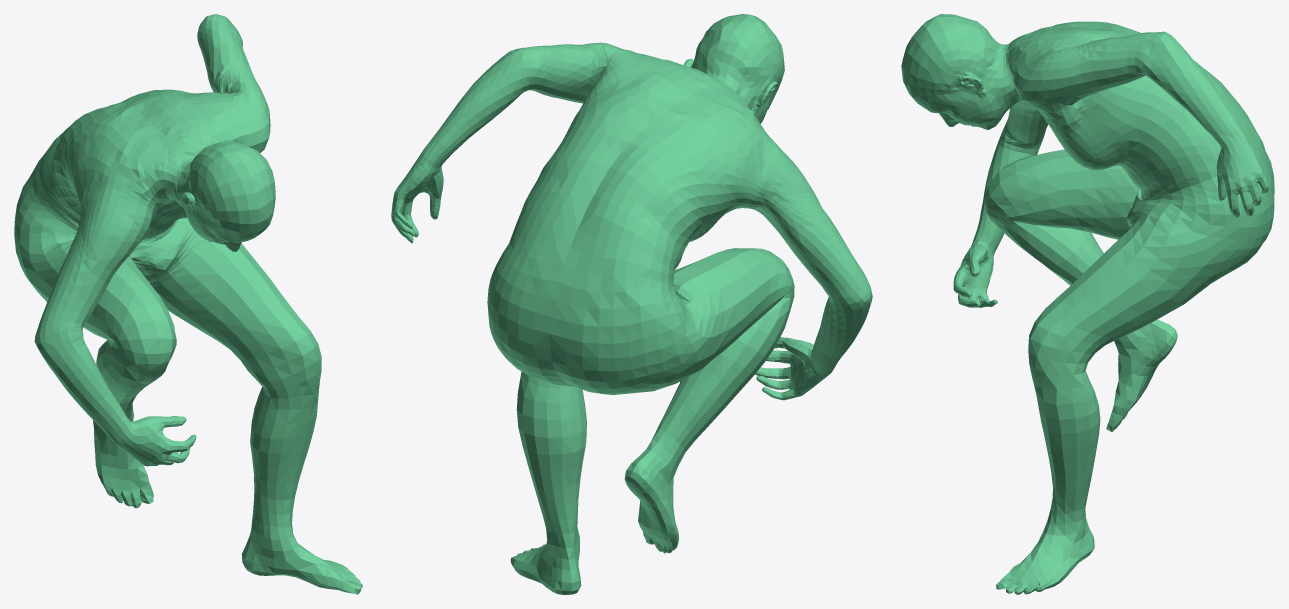
File: hwc_free_02.glb
The picture shows the model from 3 angles, left to right: view 1: azimuth 30°, elevation 25°; view 2: azimuth 150°, elevation 25°; view 3: azimuth 270°, elevation 25°; orthographic projection. The views are drawn at different scales.
Parts seen in each view (by area): view 1: hwc_free; view 2: hwc_free; view 3: hwc_free.
Boxes of the visible parts, x1,y1,x2,y2 form: hwc_free: (14, 14, 362, 594); hwc_free: (391, 14, 872, 594); hwc_free: (901, 14, 1274, 594).
Size of the model in its own units: 0.7461 by 1.17 by 0.7535.
